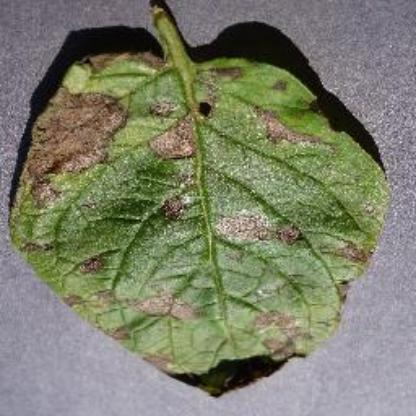Early-Blight: (8, 8, 394, 396)
